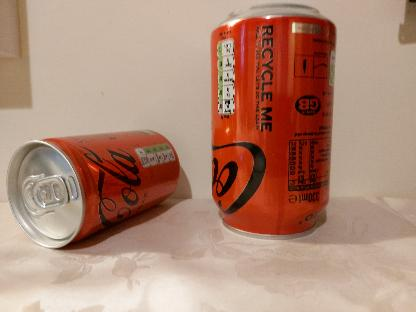Can: (209, 2, 339, 240), (6, 128, 182, 249)
